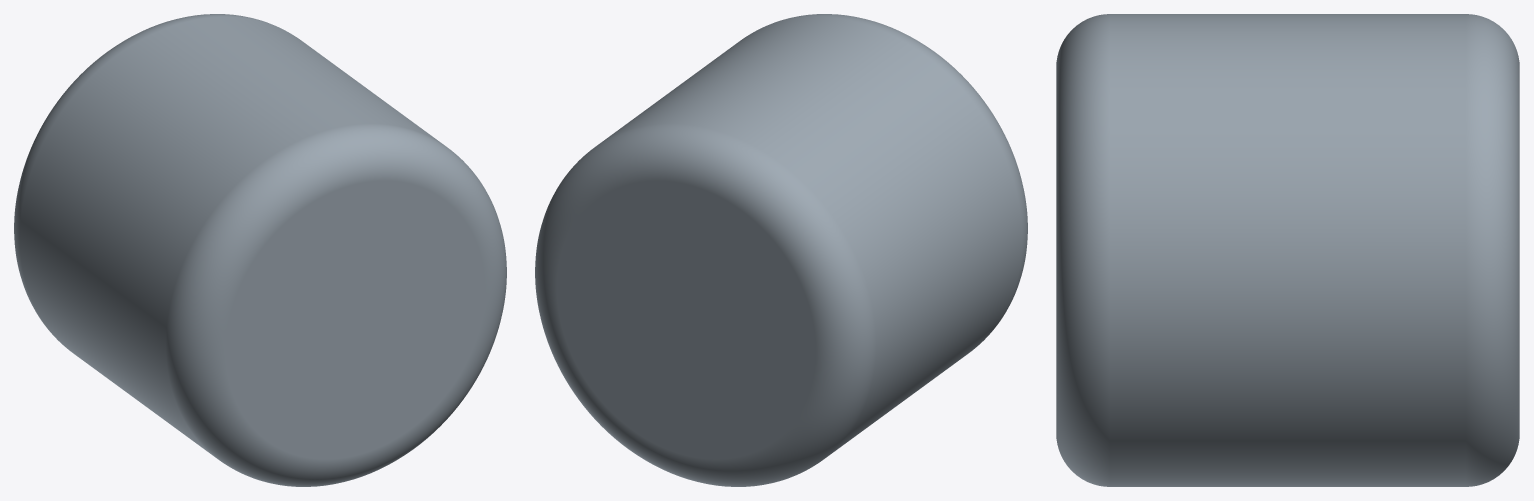
The model's file is Marshmallow.dae.
3 renders of one model, left to right at view 1: azimuth 30°, elevation 25°; view 2: azimuth 150°, elevation 25°; view 3: azimuth 270°, elevation 25°, orthographic. The views are drawn at different scales.
Size of the model in its own units: 112 by 112 by 109.
